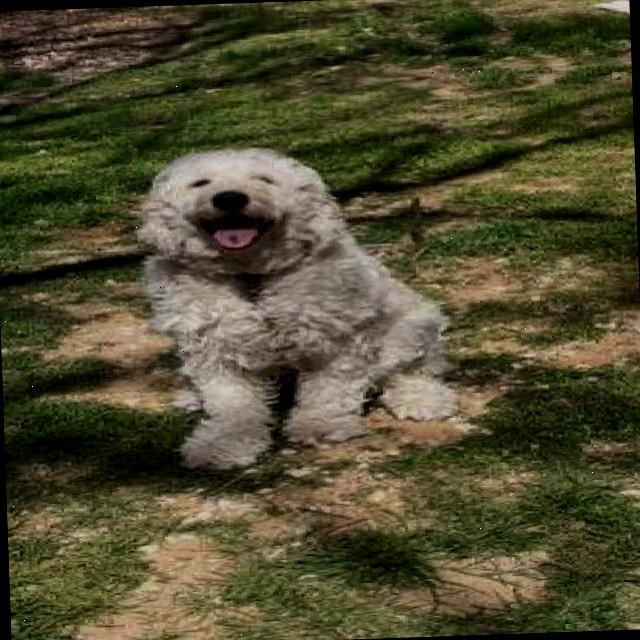Poodle_dog: (116, 136, 363, 282)
